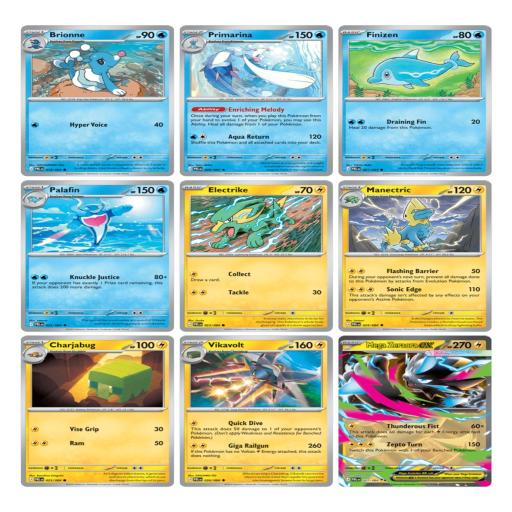card: (14, 176, 183, 329), (12, 336, 179, 490), (329, 25, 496, 177), (15, 23, 180, 176), (335, 334, 496, 490), (172, 335, 336, 487), (172, 26, 336, 176), (332, 180, 495, 329), (174, 181, 338, 329)
